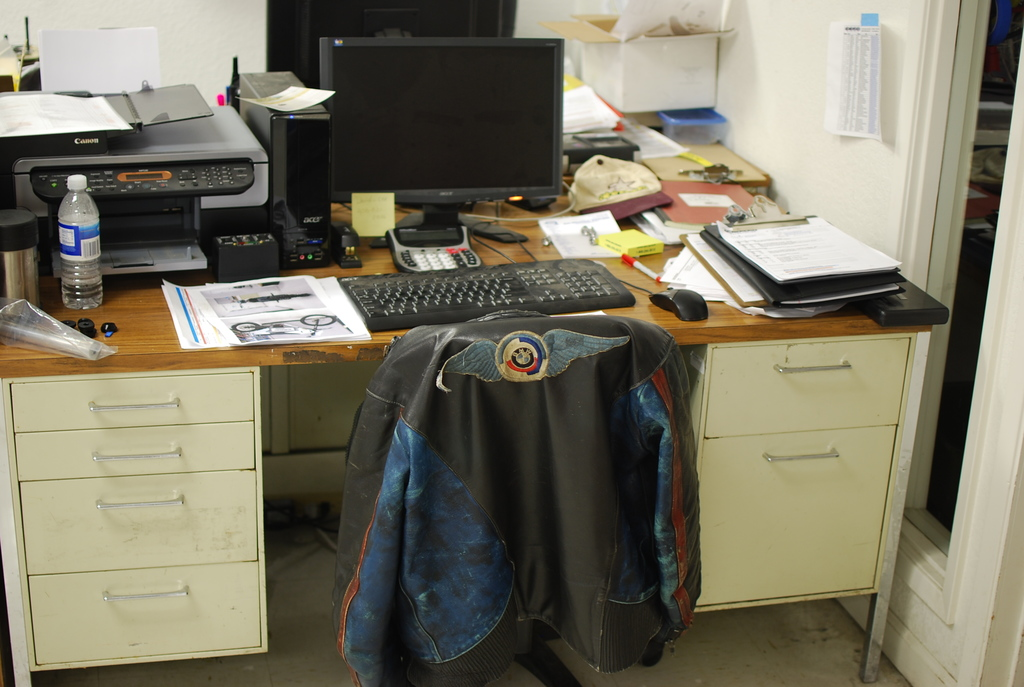cabinet door: (710, 437, 874, 583), (23, 480, 258, 556), (36, 581, 257, 643), (719, 350, 895, 423), (35, 431, 237, 472), (29, 385, 244, 423)
handle: (91, 438, 188, 466), (760, 448, 846, 474), (90, 488, 184, 511), (770, 354, 855, 378), (91, 393, 180, 415), (105, 584, 190, 605)
